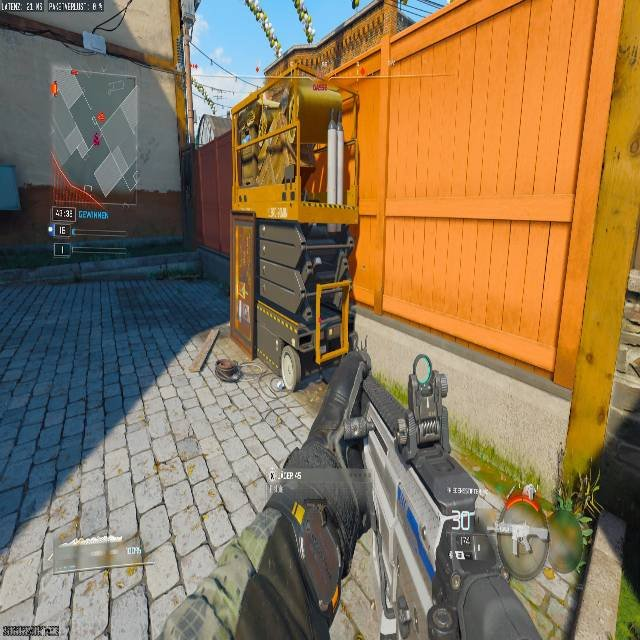head: (215, 358, 229, 369)
player: (214, 357, 244, 384)
